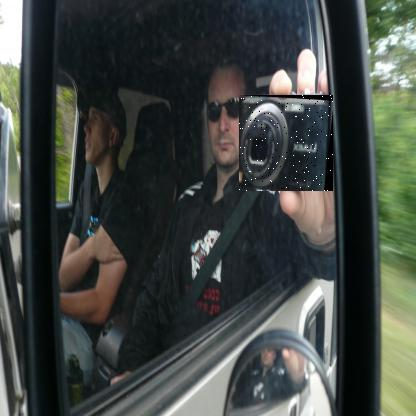Camera: (240, 96, 335, 193)
